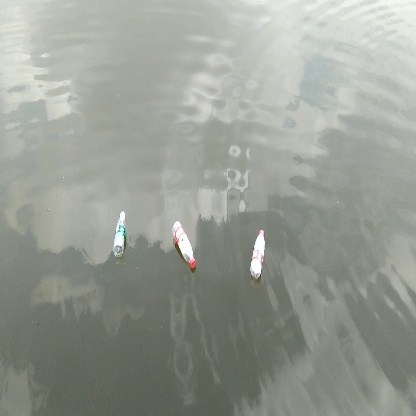bottle: (170, 219, 198, 269), (248, 225, 268, 282), (112, 211, 133, 257)
